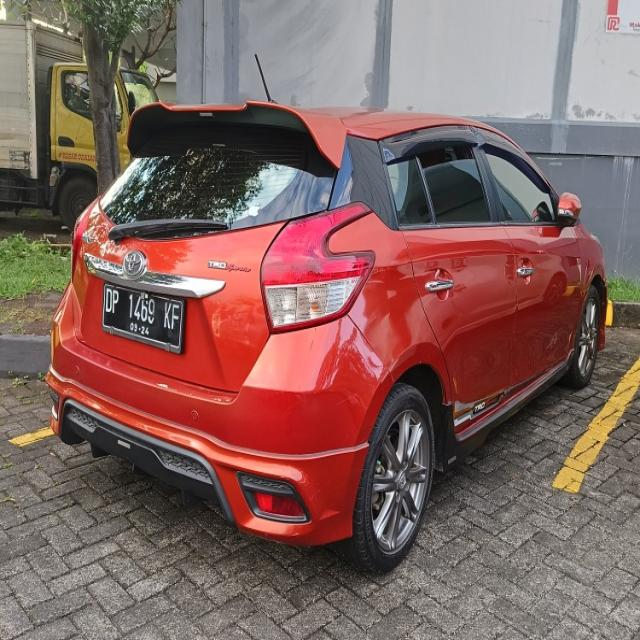plates: (100, 284, 182, 350)
